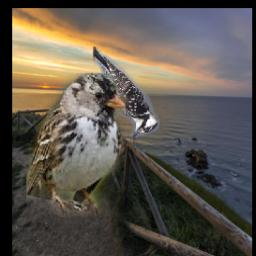Sparrow: (26, 74, 126, 219)
Woodpecker: (92, 47, 158, 138)
